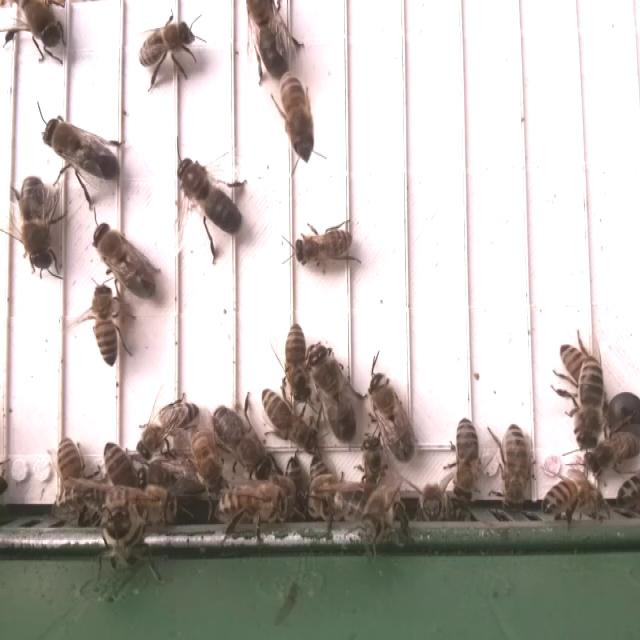Drone: (39, 115, 122, 187), (92, 220, 158, 301), (176, 156, 242, 237), (210, 403, 275, 483), (308, 342, 358, 445), (368, 370, 418, 465), (244, 0, 294, 79), (18, 172, 57, 272)
Worker: (138, 398, 200, 458), (258, 387, 318, 448), (573, 355, 607, 452), (135, 22, 197, 70), (279, 74, 313, 154), (215, 486, 288, 522), (582, 431, 640, 476), (92, 281, 122, 367), (292, 225, 353, 267), (501, 418, 531, 502), (450, 415, 480, 497), (54, 435, 91, 499), (102, 438, 141, 497), (546, 477, 608, 514), (282, 319, 311, 398)
